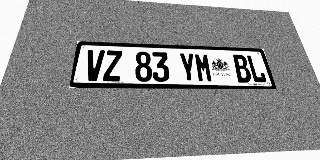3: (152, 52, 169, 82)
8: (135, 51, 152, 82)
B: (232, 54, 253, 83)
L: (246, 55, 267, 83)
M: (194, 53, 213, 82)
V: (83, 50, 105, 81)
Y: (178, 53, 197, 82)
Z: (103, 50, 122, 81)
